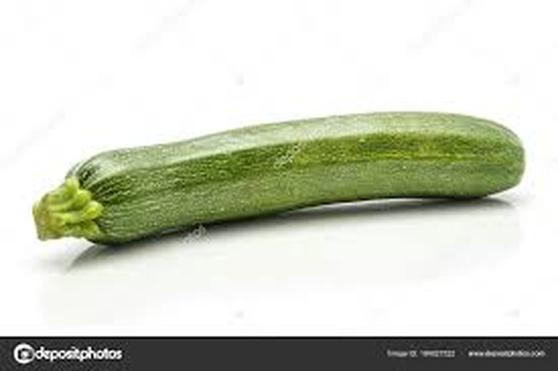zucchini: (36, 105, 526, 248)
